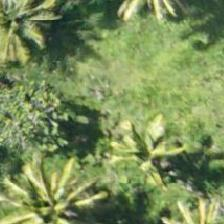coconut_tree: (99, 108, 189, 198), (6, 150, 96, 223), (16, 174, 106, 223)
